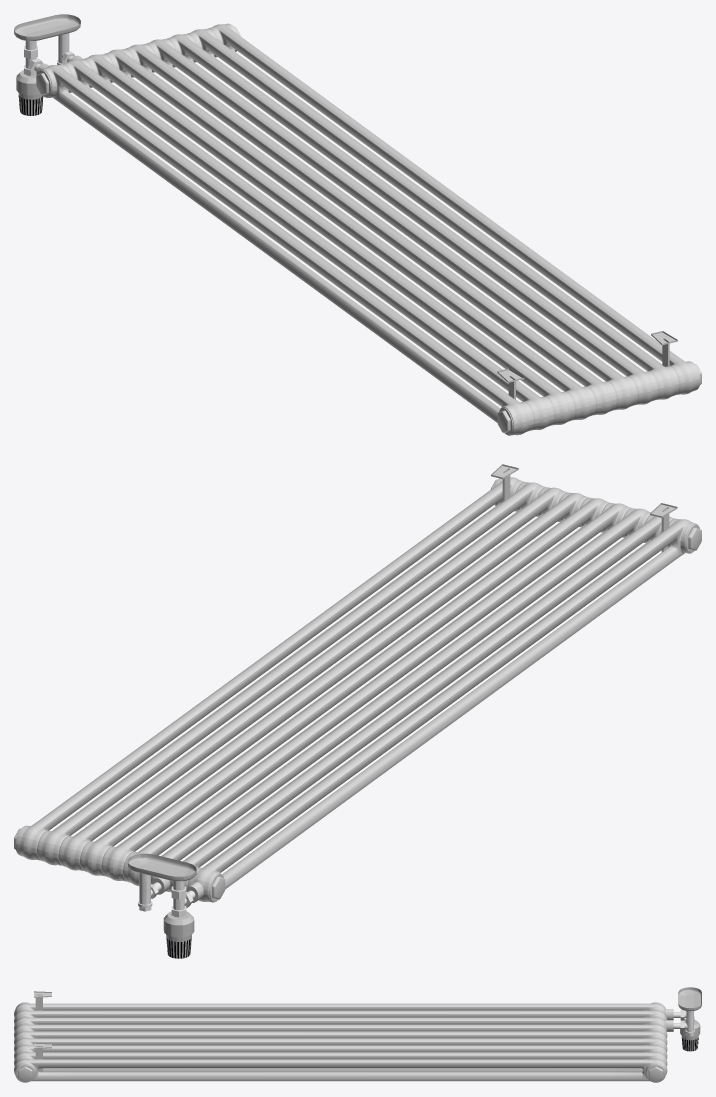
Rendered from SM_Heater_003.obj.
3 views of the same model, one above another, from view 1: azimuth 30°, elevation 25°; view 2: azimuth 150°, elevation 25°; view 3: azimuth 270°, elevation 25° (orthographic). The views are drawn at different scales.
Visible parts, largest first — view 1: SM_Heater_003; view 2: SM_Heater_003; view 3: SM_Heater_003.
Part boxes in pixels (x1,y1,x2,y2): SM_Heater_003: [14, 14, 701, 435]; SM_Heater_003: [14, 464, 701, 958]; SM_Heater_003: [14, 987, 701, 1082].
Bounding box in the file's own units: 0.4224 × 0.1695 × 1.89.
Materials: 4 (1 with a texture image).
